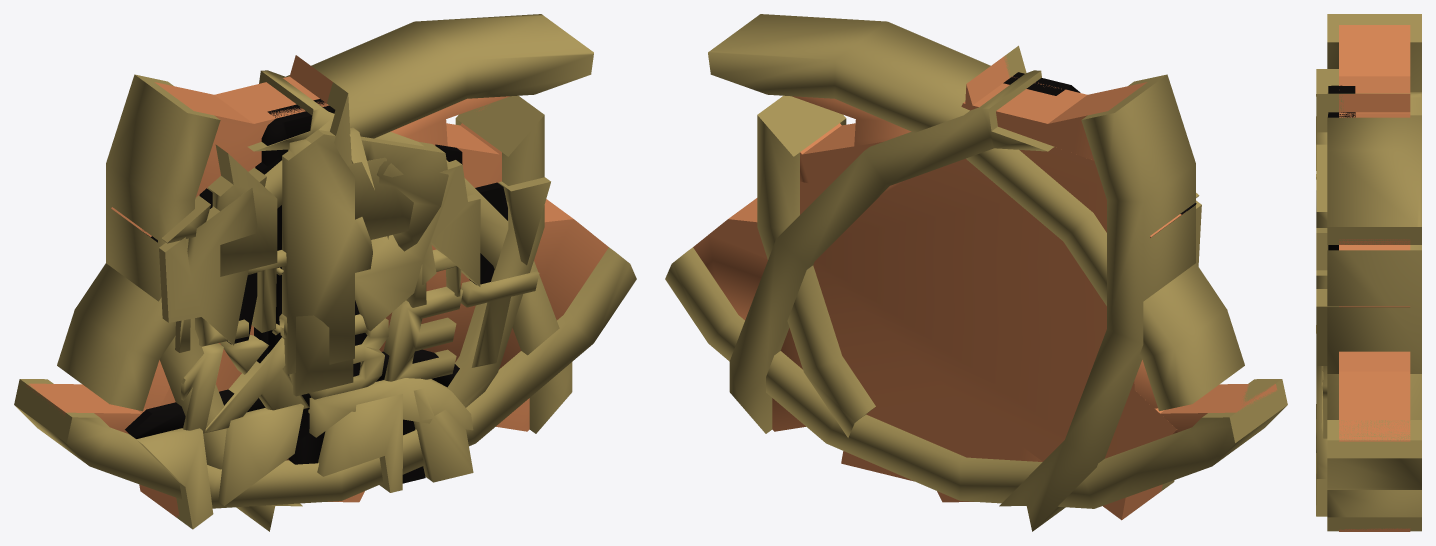
Rendered from medal.glb.
3 views of the same model, side by side, from view 1: azimuth 30°, elevation 25°; view 2: azimuth 150°, elevation 25°; view 3: azimuth 270°, elevation 25° (orthographic). The views are drawn at different scales.
Visible parts, largest first — view 1: medal_part4, medal_part2, medal_part3, medal_part5, medal_part1; view 2: medal_part1, medal_part2, medal_part3, medal_part4, medal_part5; view 3: medal_part4, medal_part2, medal_part5, medal_part3, medal_part1.
Boxes of the visible parts, bbox=[...] form: medal_part4: bbox=[14, 55, 636, 508]; medal_part2: bbox=[57, 14, 593, 492]; medal_part3: bbox=[106, 74, 550, 531]; medal_part5: bbox=[159, 95, 544, 407]; medal_part1: bbox=[125, 70, 572, 529]; medal_part1: bbox=[729, 70, 1176, 520]; medal_part2: bbox=[708, 14, 1244, 481]; medal_part3: bbox=[800, 72, 1195, 531]; medal_part4: bbox=[665, 45, 1287, 508]; medal_part5: bbox=[757, 95, 1201, 437]; medal_part4: bbox=[1316, 69, 1421, 489]; medal_part2: bbox=[1316, 115, 1421, 516]; medal_part5: bbox=[1316, 116, 1421, 373]; medal_part3: bbox=[1316, 14, 1421, 365]; medal_part1: bbox=[1316, 92, 1421, 531].
Bounding box in the file's own units: 0.8467 × 0.6232 × 0.1516.
